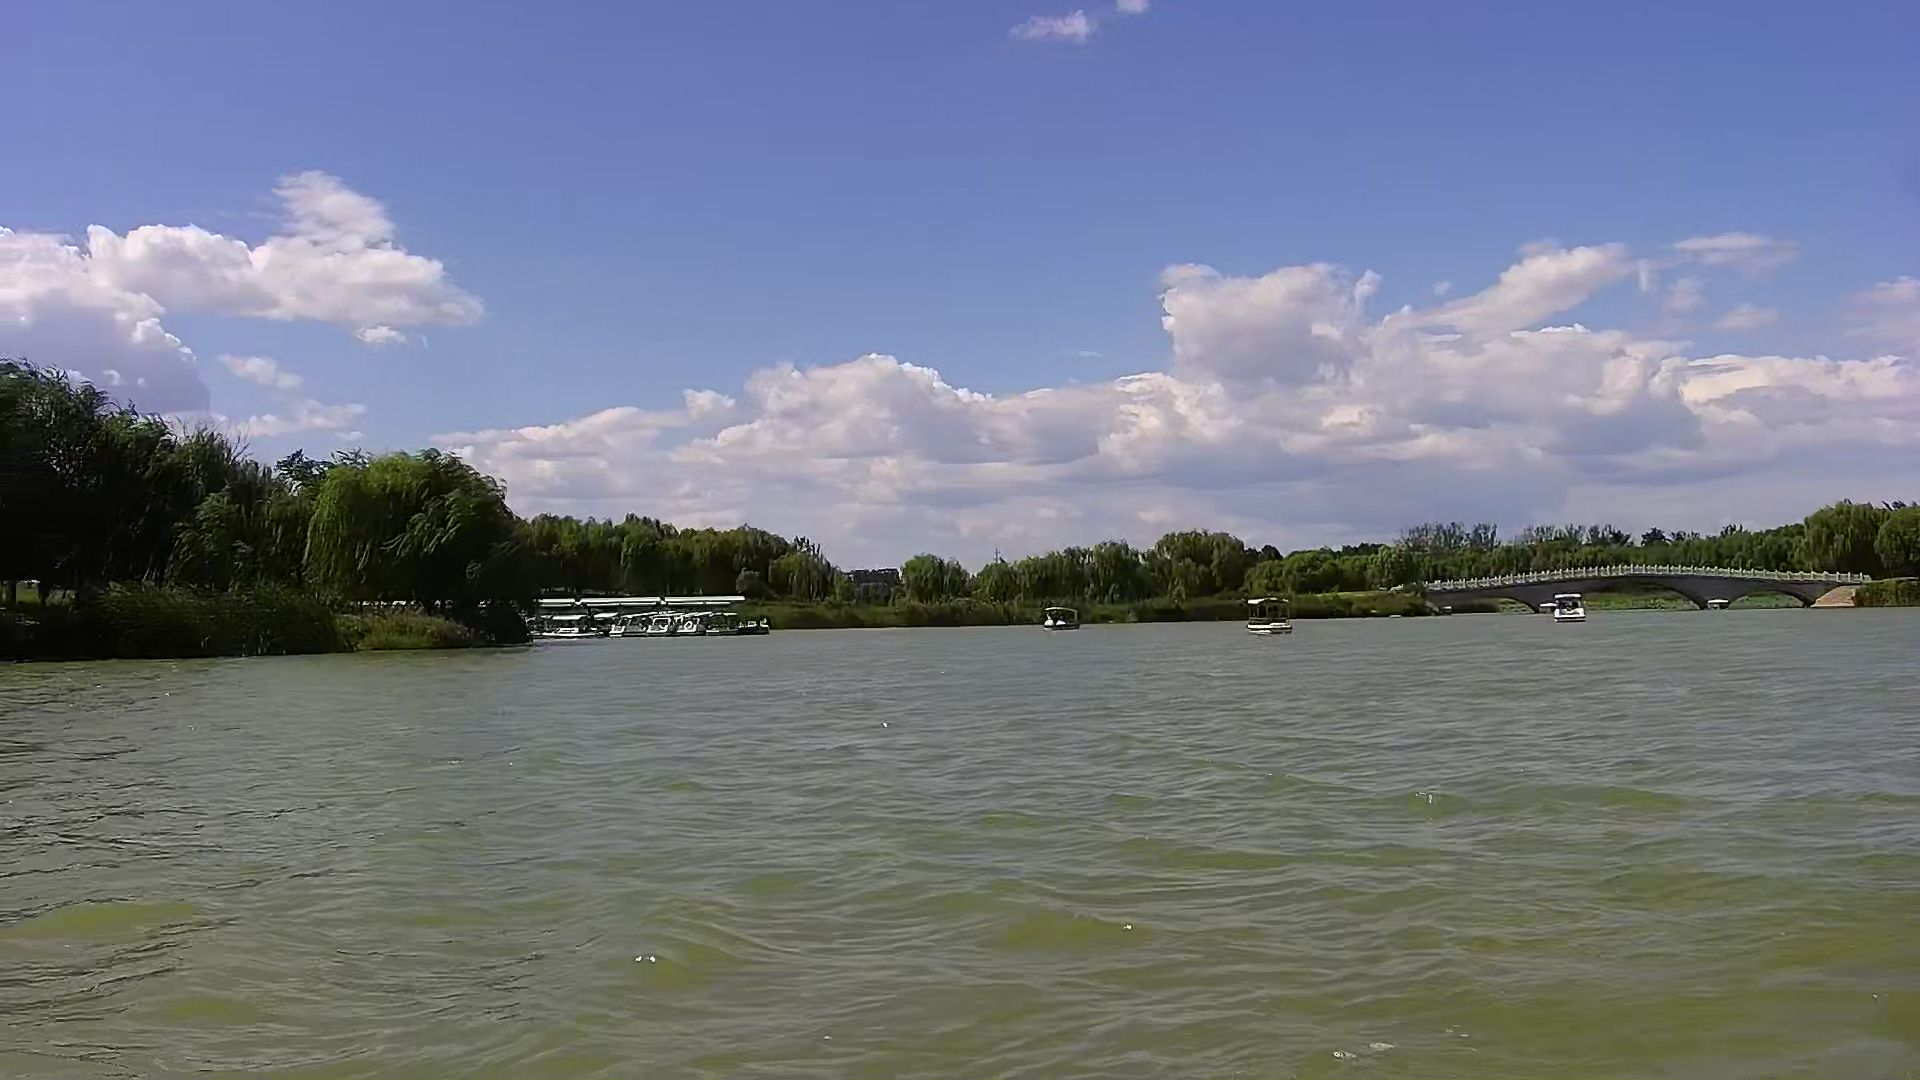boat: (1244, 593, 1313, 640), (673, 611, 753, 636), (1040, 604, 1089, 634), (607, 615, 655, 642), (1555, 589, 1592, 620), (649, 608, 679, 638)
bridge: (1419, 558, 1867, 616)
